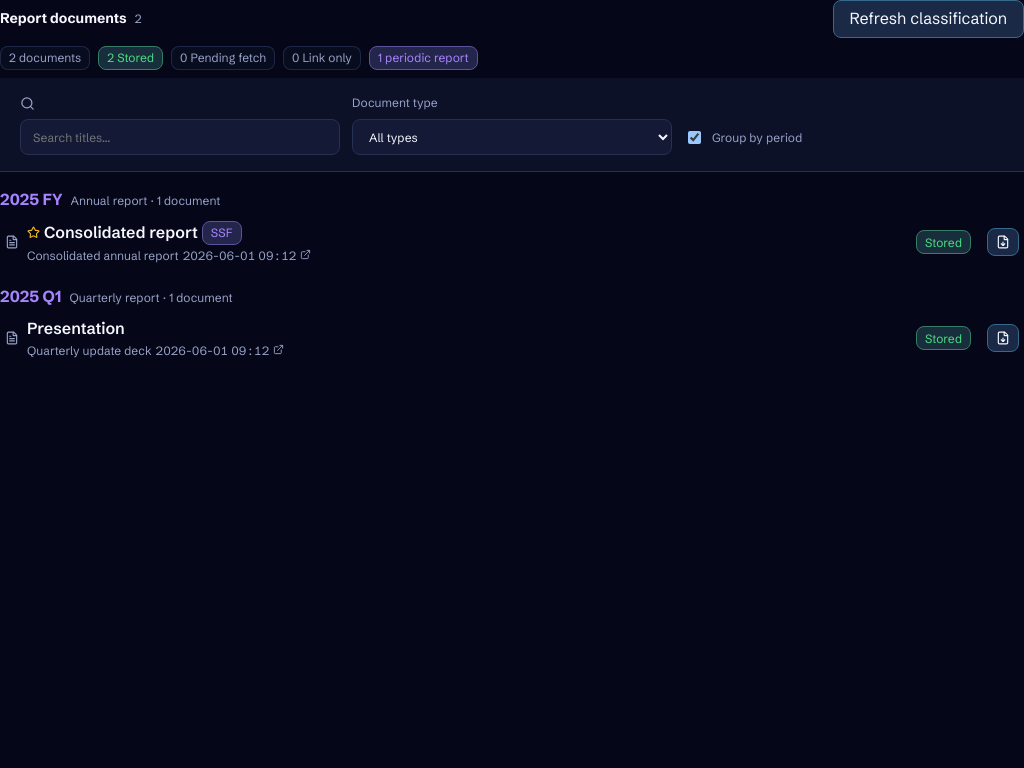
CompanyReportDocumentsPanel › narrows the visible rows with the search field
The width and height of the screenshot is (1024, 768).
Expected: the text "Consolidated annual report" is shown, 27,247 -> 179,264
Expected: the text "Quarterly update deck" is shown, 27,342 -> 152,360
Type "annual" into the search field named "Search documents" at (180, 137), box 20,119 -> 340,155
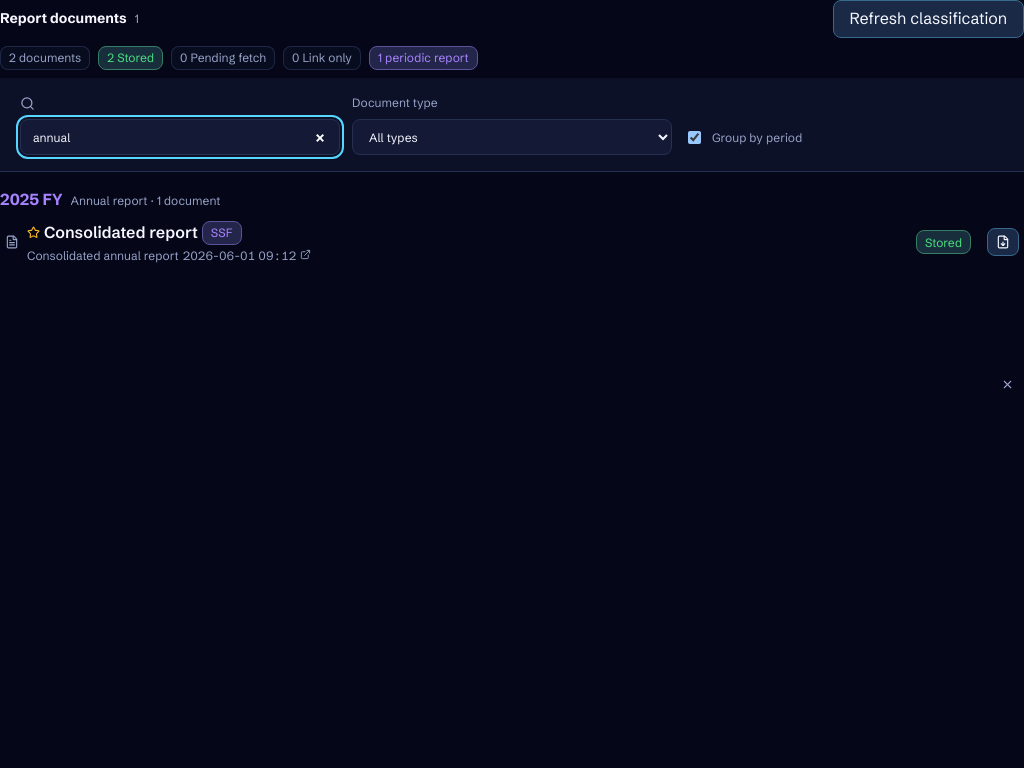
Expected: the text "Consolidated annual report" is shown, 27,247 -> 179,264
Now the link "Quarterly update deck" is gone
